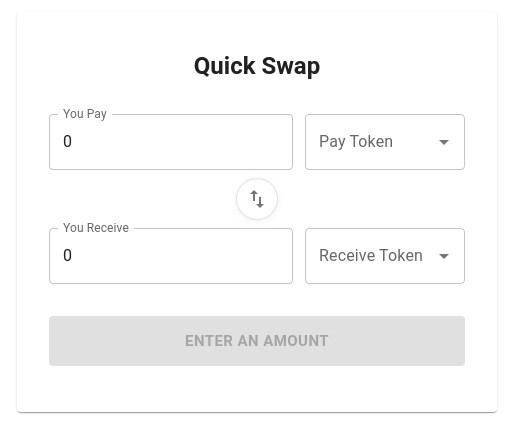
SwapCard Component › 5. Defensive Programming & Edge Cases › TC-11: Ignores tokens without a valid price from the API
Press the mouse on the dropdown labelled "Pay Token" at (370, 142), box [314,123,426,161]
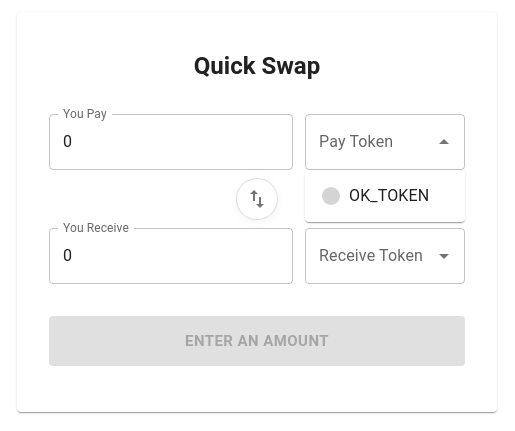
Check: the option "OK_TOKEN" is shown, box [321,186,429,206]
